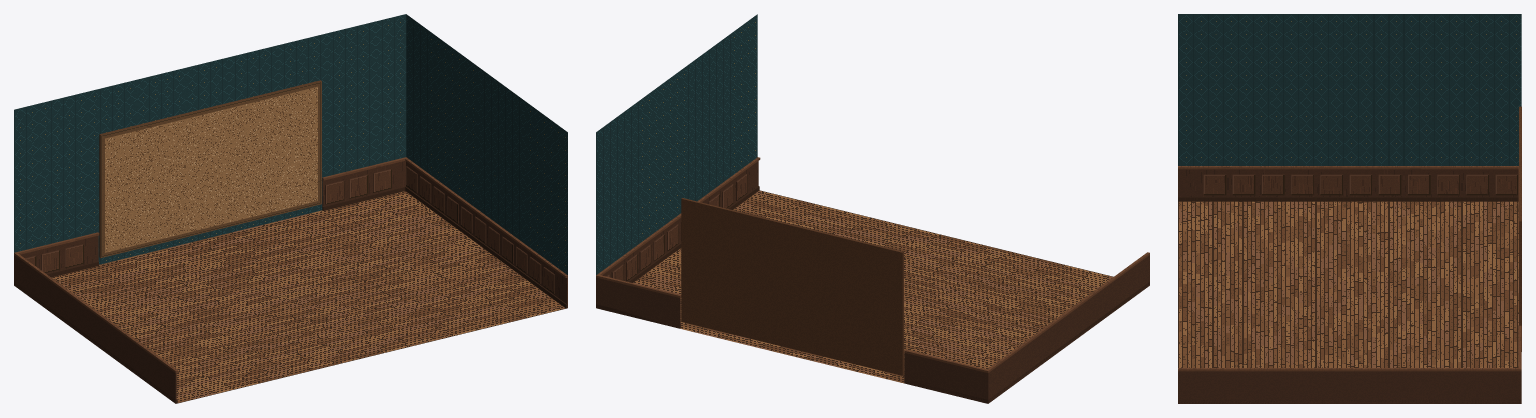
Rendered from recon_room.glb.
The picture shows the model from 3 angles, left to right: view 1: azimuth 30°, elevation 25°; view 2: azimuth 150°, elevation 25°; view 3: azimuth 270°, elevation 25°; orthographic projection. The views are drawn at different scales.
Parts seen in each view (by area): view 1: recon_room; view 2: recon_room; view 3: recon_room.
Boxes of the visible parts, bbox=[...] form: recon_room: bbox=[14, 14, 567, 403]; recon_room: bbox=[596, 14, 1149, 403]; recon_room: bbox=[1178, 14, 1521, 403].
Size of the model in its own units: 14 by 6 by 10.01.
Materials: 1 (1 with a texture image).
